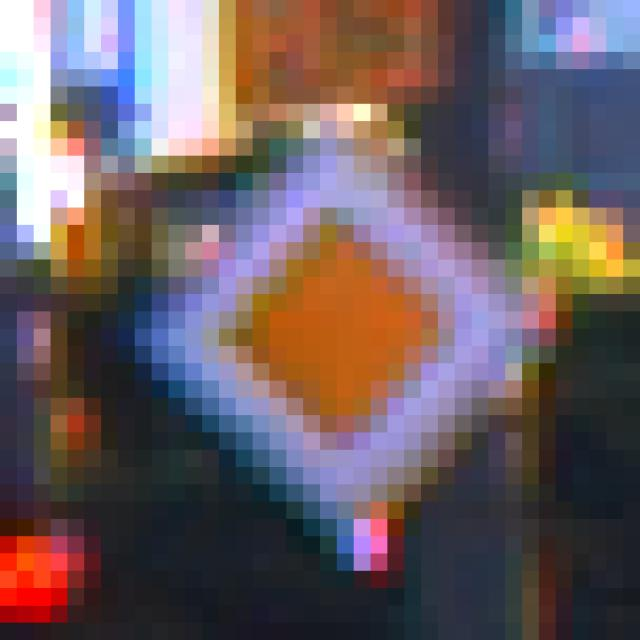Main Road: (102, 105, 540, 554)
